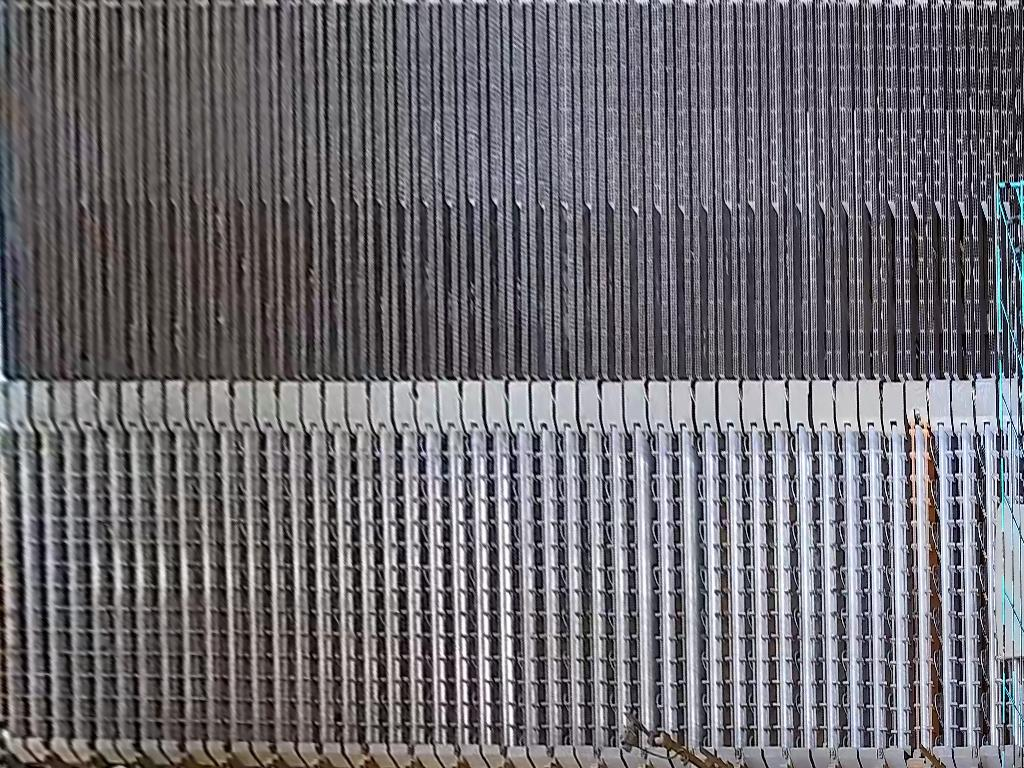steel: (994, 504, 1024, 662)
